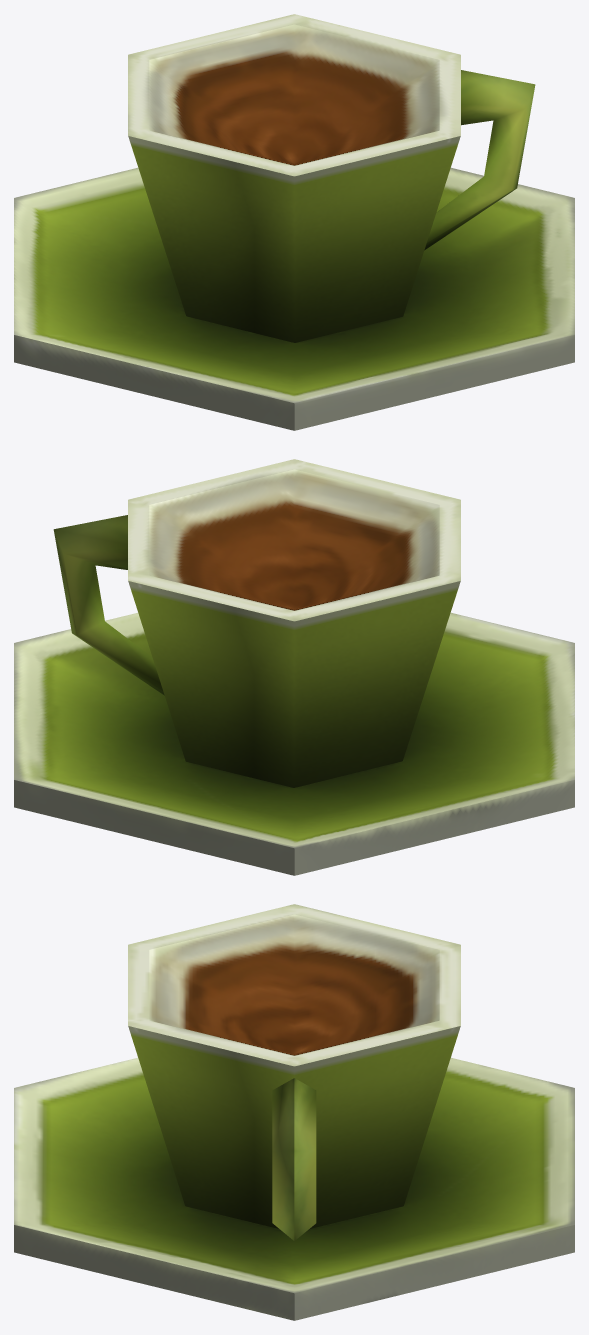
File: cup.DAE
3 renders of one model, top to bottom at view 1: azimuth 30°, elevation 25°; view 2: azimuth 150°, elevation 25°; view 3: azimuth 270°, elevation 25°, orthographic.
Visible parts, largest first — view 1: cup; view 2: cup; view 3: cup.
Part boxes in pixels (x1=…): cup: x1=14, y1=14, x2=574, y2=430; cup: x1=14, y1=459, x2=574, y2=875; cup: x1=14, y1=904, x2=574, y2=1320.
Size of the model in its own units: 39.09 by 13.23 by 33.86.
1 material, 1 textured.
